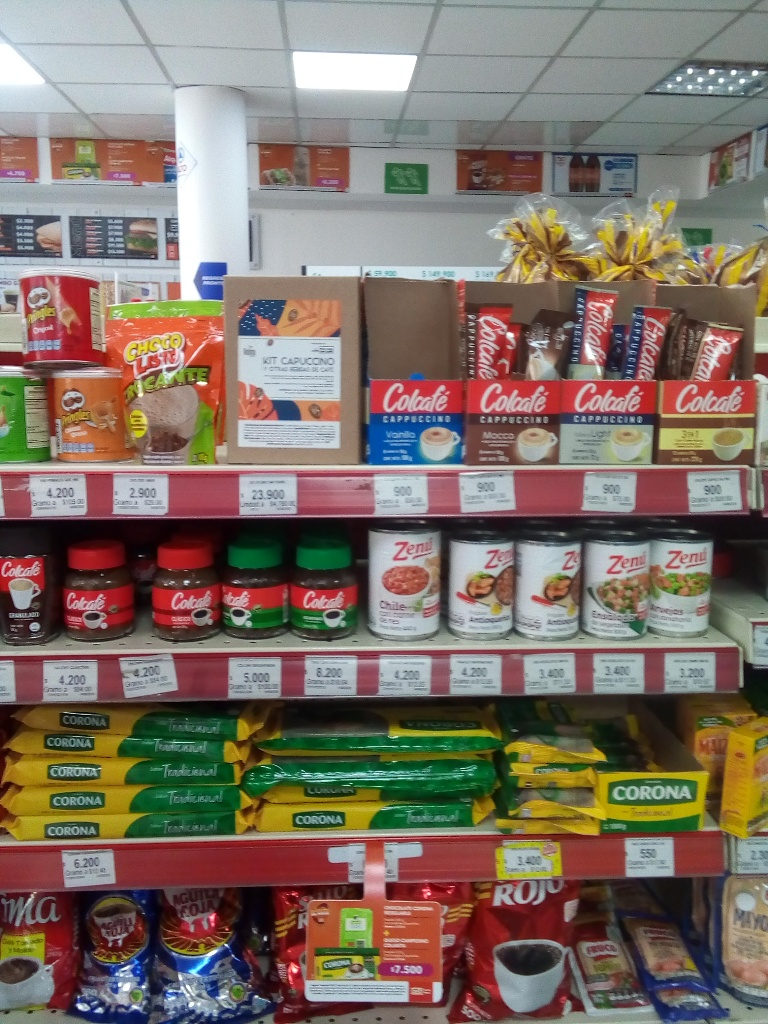COL0170102DYP10000: (99, 299, 225, 468)
